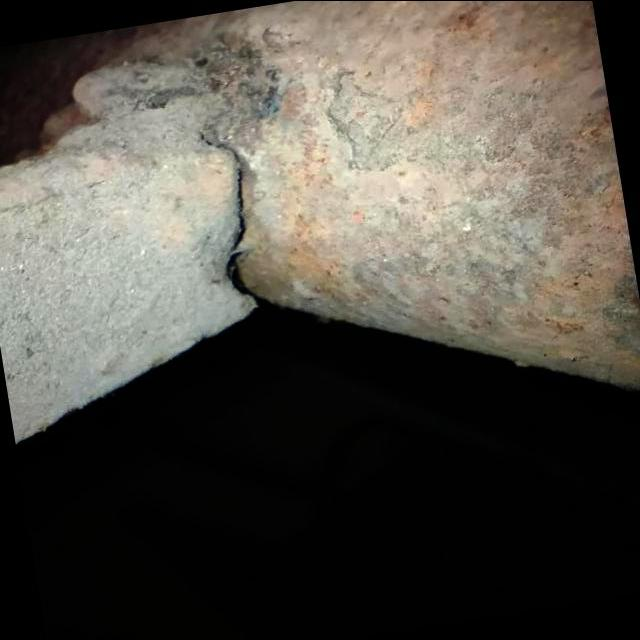defect: (198, 130, 269, 310)
